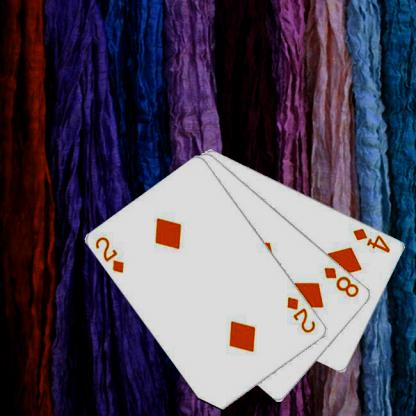2D: (284, 294, 318, 334), (93, 234, 126, 274)
4D: (350, 225, 392, 254)
8D: (321, 264, 361, 299)
